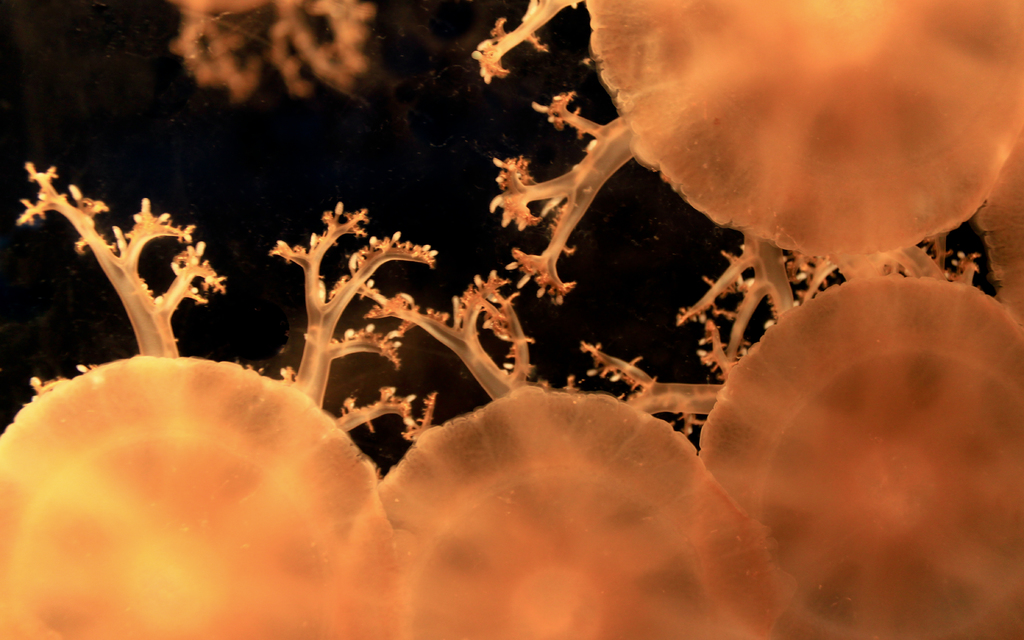Jellyfish: (0, 158, 1023, 639), (468, 24, 1024, 314)
